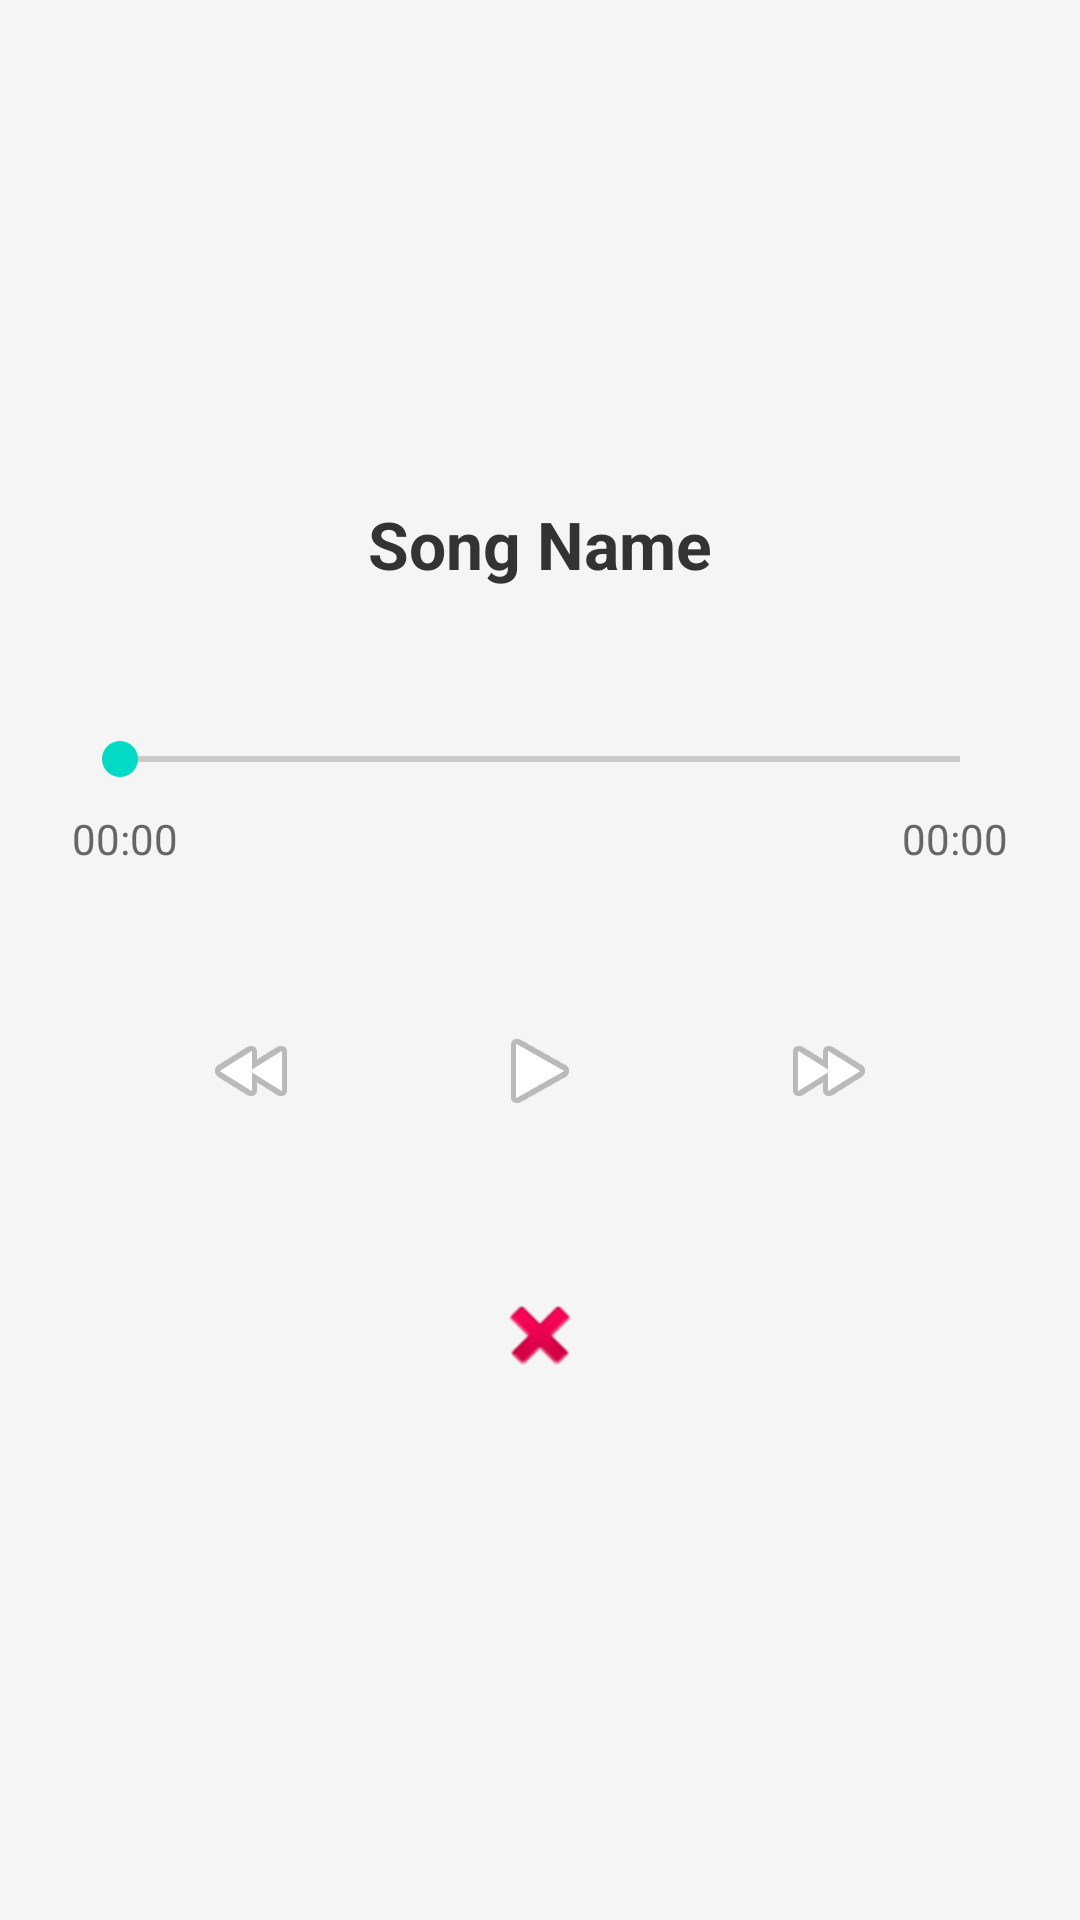

Icons on this 1080*1920 Android screen, each with its box as Rect(x1, y1, x2, y2):
Forward: Rect(793, 1046, 865, 1096)
Play/Pause: Rect(511, 1039, 569, 1103)
Rewind: Rect(215, 1046, 287, 1096)
